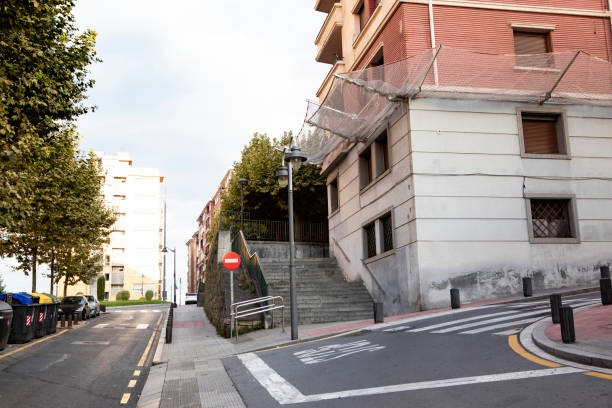Girilmez: (219, 247, 240, 271)
